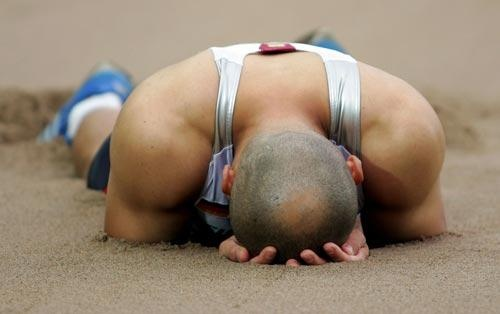falling: (21, 15, 474, 267)
